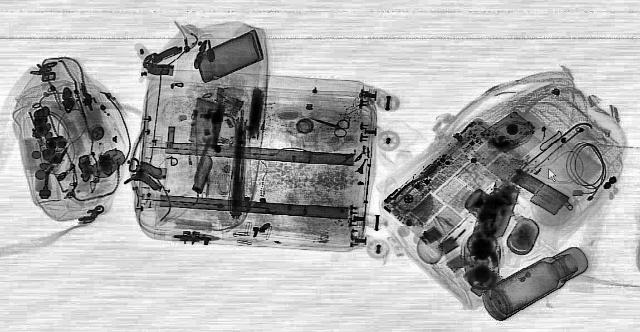Scissors: (298, 110, 362, 138)
